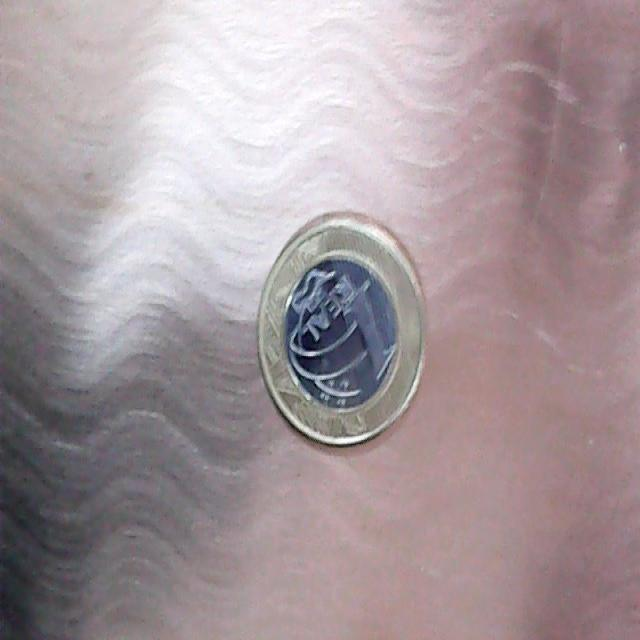1 real: (246, 202, 439, 453)
